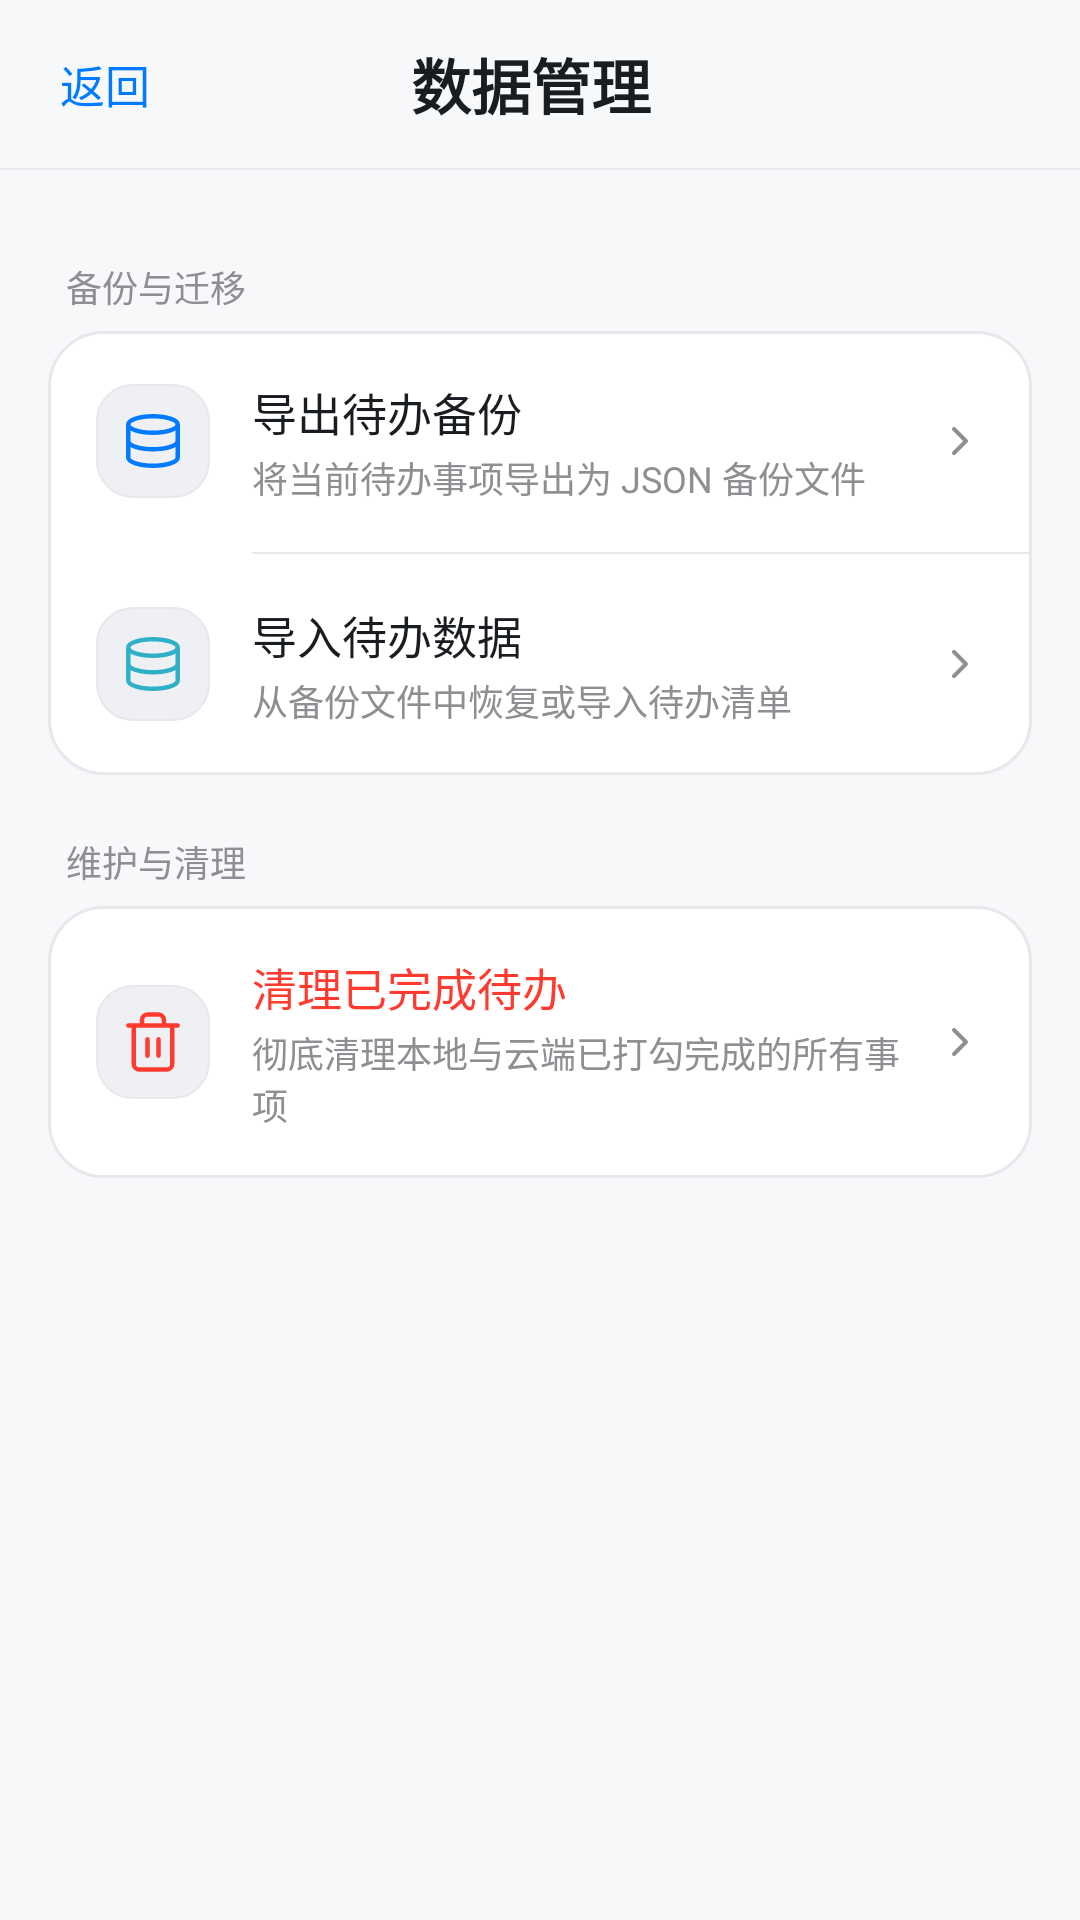

Icon click points for this 1080 × 1920 phone screenshot, format (x=x, y=y):
导入备份: (x=153, y=664)
导出备份: (x=153, y=441)
